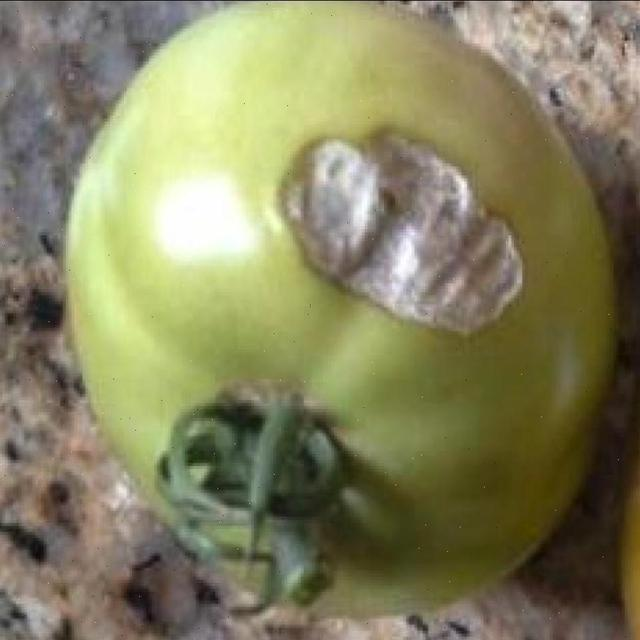Sunscald Fruit: (168, 72, 354, 218)
